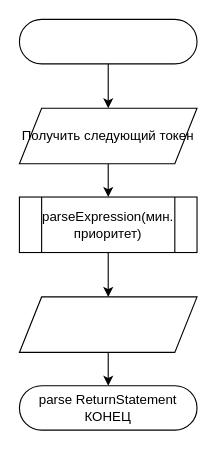
The diagram is 216 pixels wide and 450 high, and some of its shapes have lost their labels. The shapes that lost their labels are listed below. From the top down, each one's box as (x1, y1, x2, y2) in pixels, then its label:
(18, 18, 197, 64): parse ReturnStatement НАЧАЛО
(18, 296, 197, 352): Вернуть ReturnStatement
